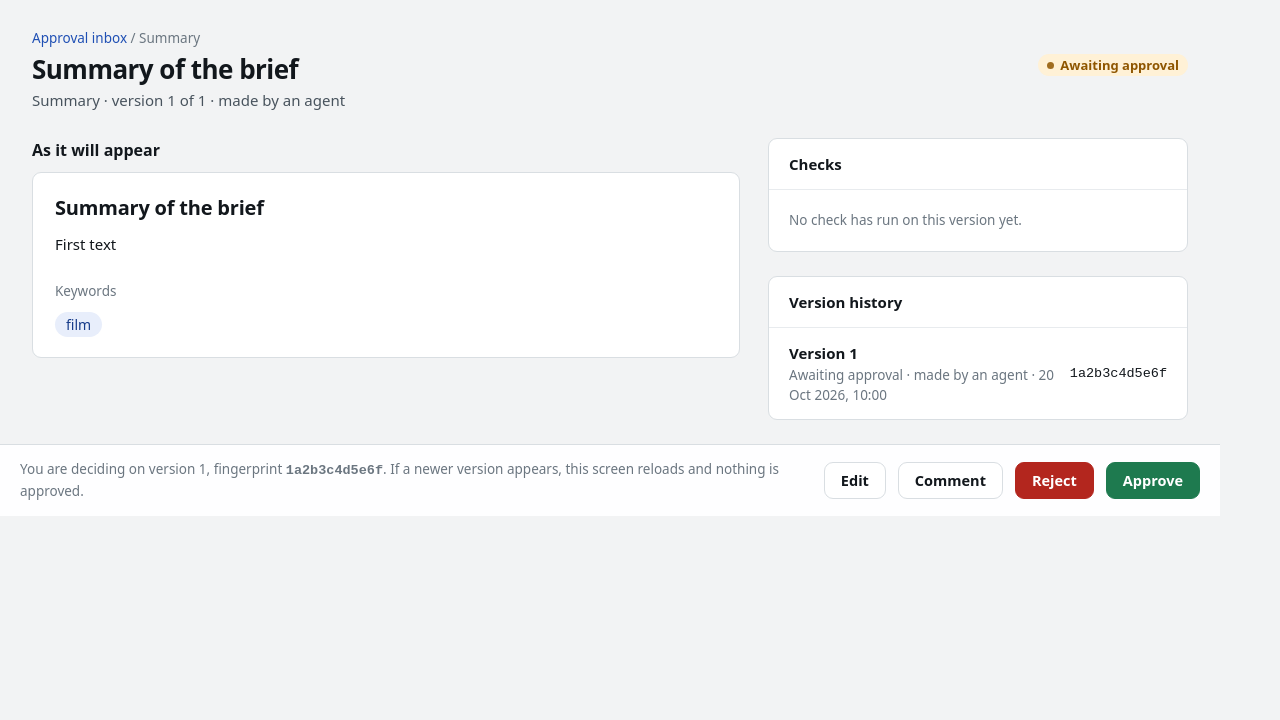
Test case: the item screen, driven › reports a successful approve as done even when the reload after it fails
Click the button "Approve" at (1153, 480), box [1106,462,1200,499]
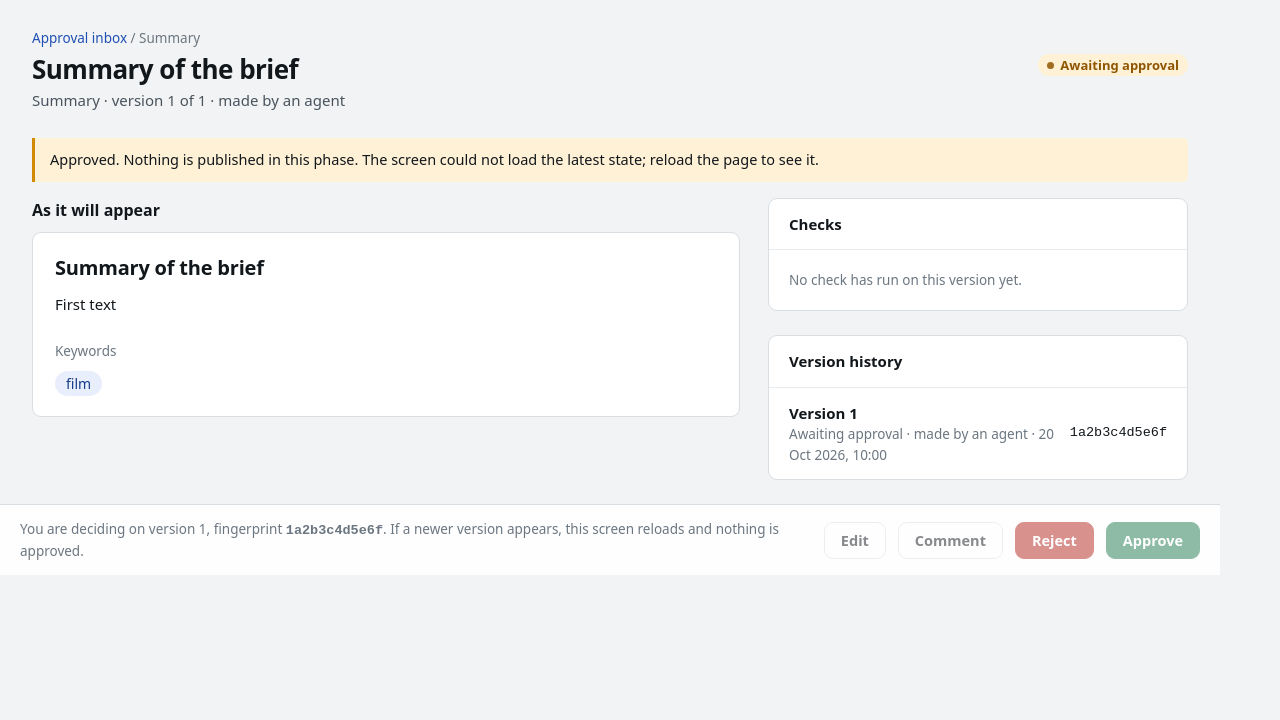
Check: the text "Approved." is shown, box [50,149,819,169]
Check: the text "reload the page" is shown, box [50,149,819,169]
Check: the button "Approve" is disabled, box [1106,522,1200,559]
